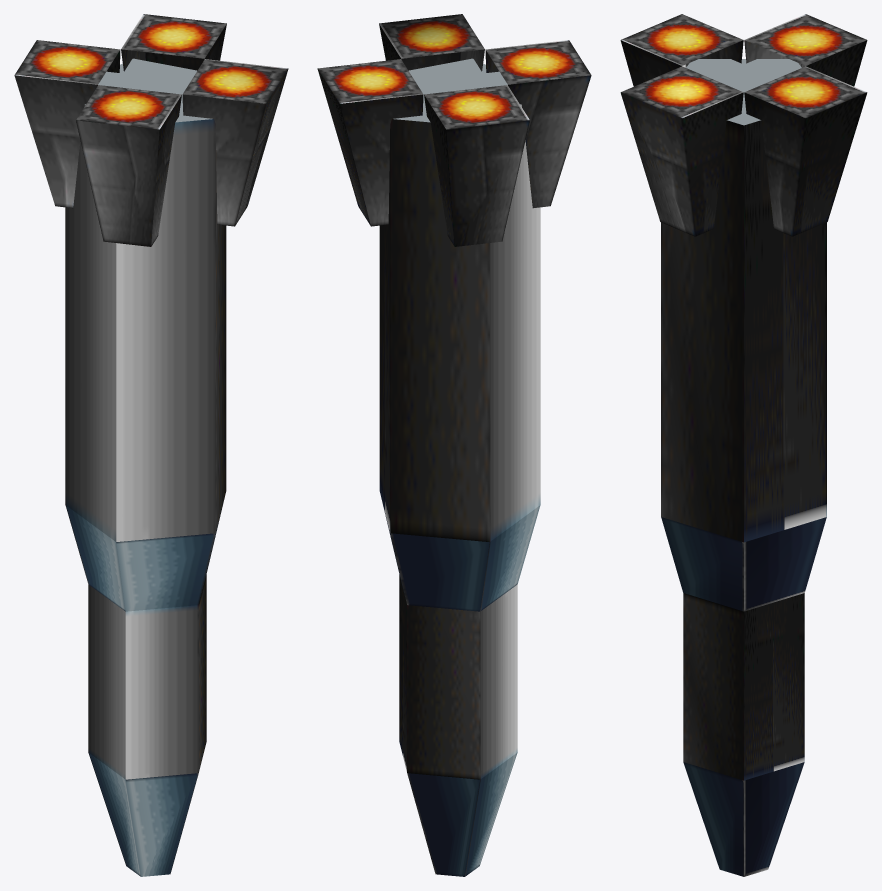
Rendered from missile.obj.
The picture shows the model from 3 angles, left to right: view 1: azimuth 30°, elevation 25°; view 2: azimuth 150°, elevation 25°; view 3: azimuth 270°, elevation 25°; orthographic projection.
Parts seen in each view (by area): view 1: rocket; view 2: rocket; view 3: rocket.
Part boxes in pixels (x1,y1,x2,y2): rocket: [14, 14, 288, 876]; rocket: [317, 14, 591, 876]; rocket: [620, 14, 867, 876].
Bounding box in the file's own units: 0.0894 × 0.3195 × 0.0894.
Materials: 1 (1 with a texture image).
